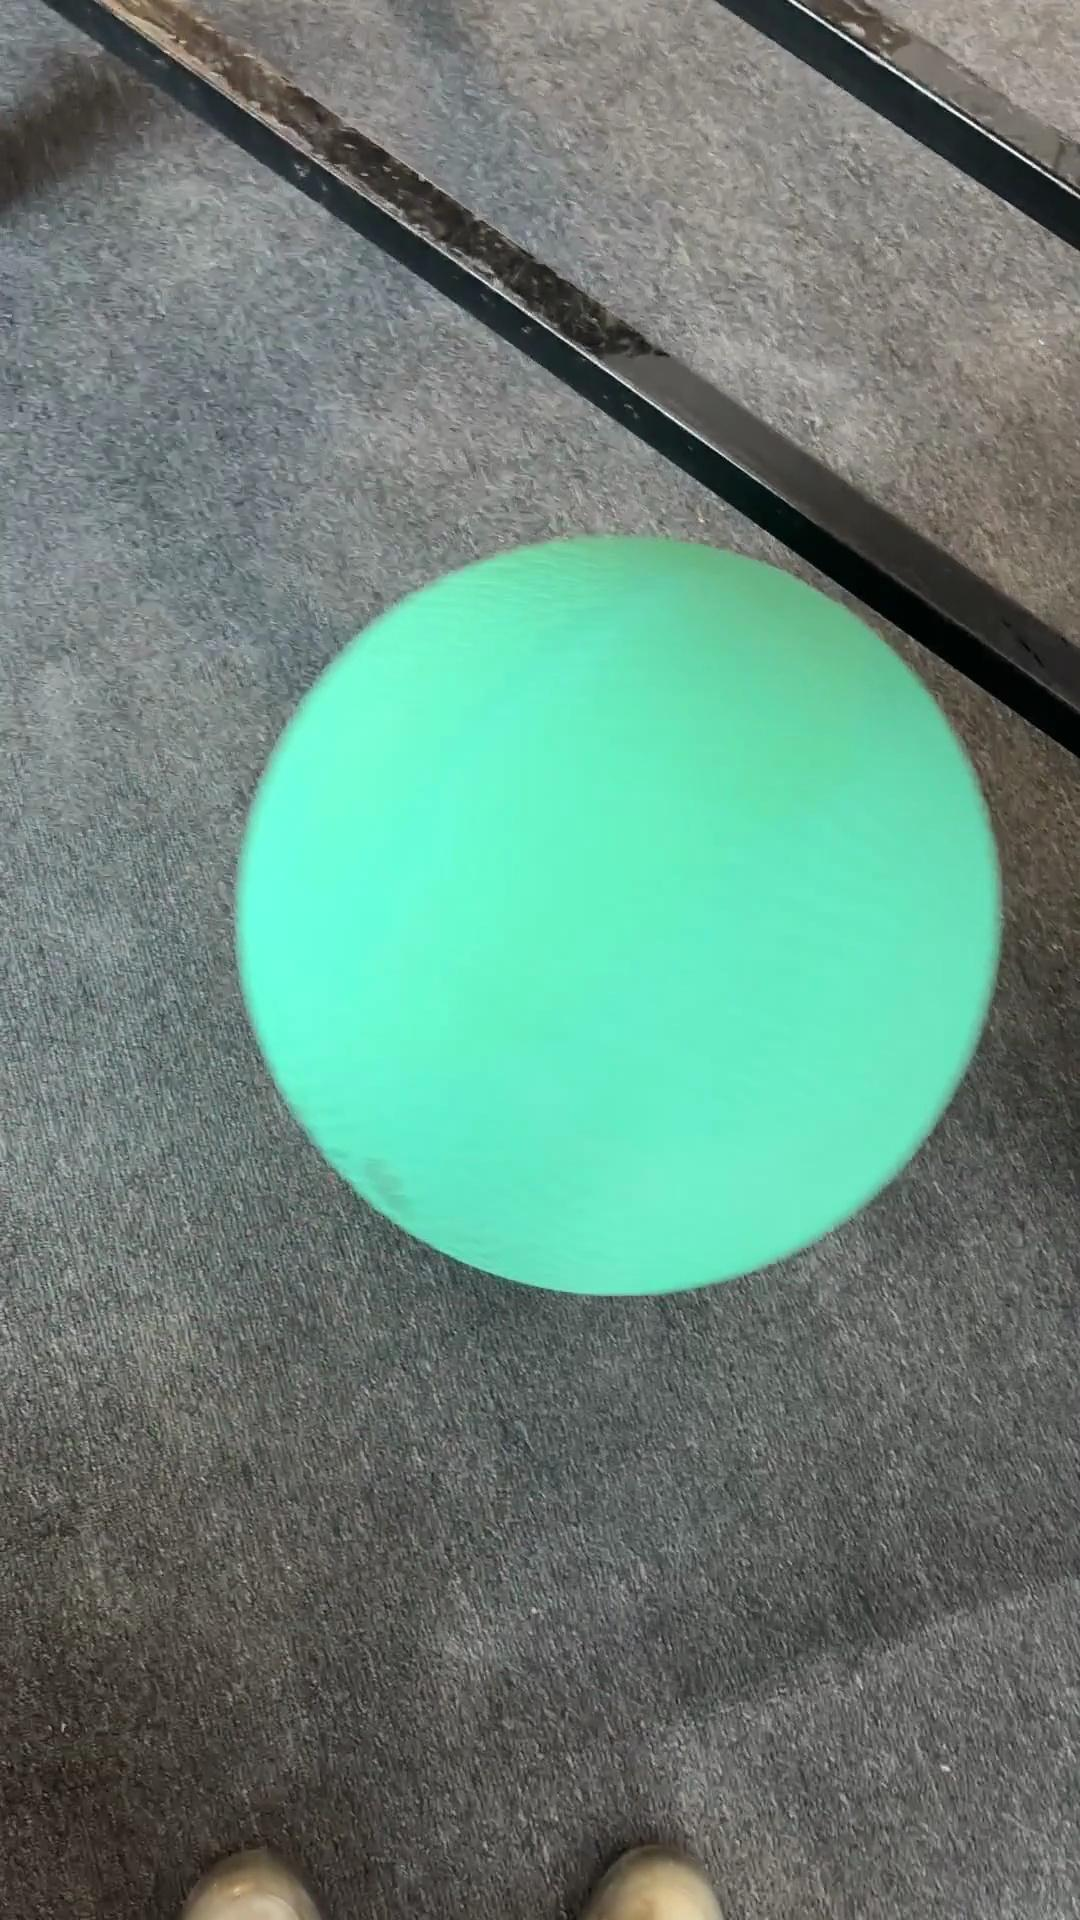ALGAE: (229, 530, 1004, 1299)
